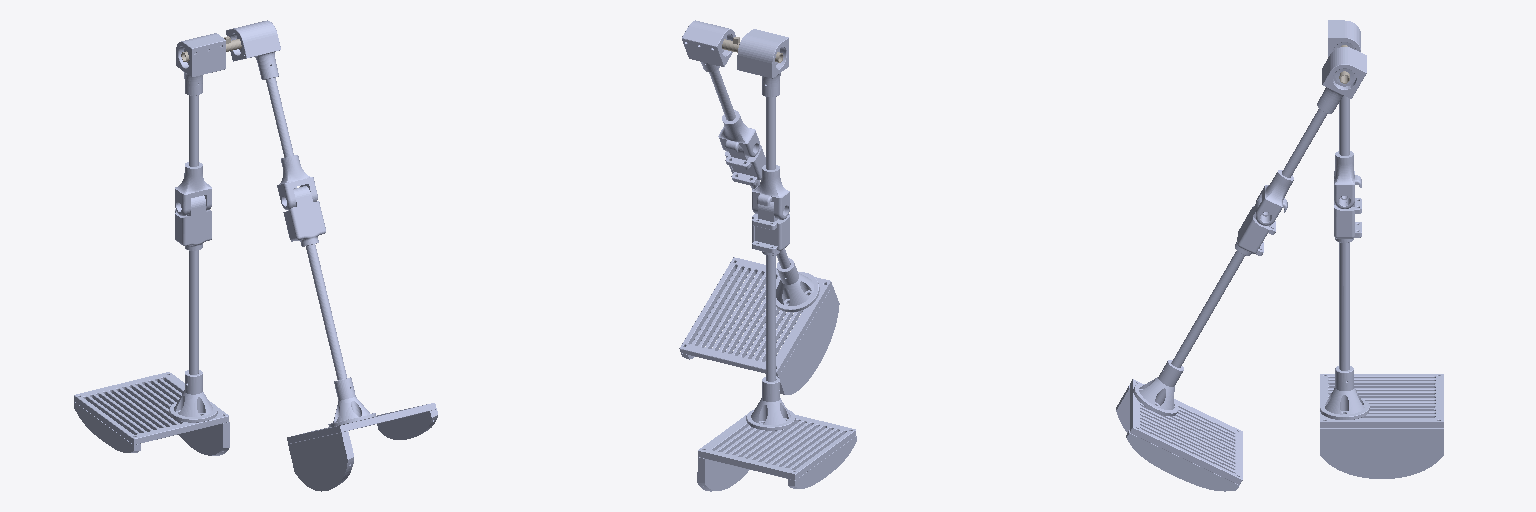
The robot description file, URDF, robot "walker_design_4":
<?xml version="1.0" encoding="utf-8"?>
<!-- This URDF was automatically created by SolidWorks to URDF Exporter! Originally created by [author] ([email redacted]) 
     Commit Version: 1.6.0-4-g7f85cfe  Build Version: 1.6.7995.38578
     For more information, please see http://wiki.ros.org/sw_urdf_exporter -->
<robot
  name="walker_design_4">
  <link
    name="hip_link">
    <inertial>
      <origin
        xyz="-1.0408E-17 0 0.00036588"
        rpy="0 0 0" />
      <mass
        value="0.023249" />
      <inertia
        ixx="5.1362E-07"
        ixy="-2.9466E-22"
        ixz="-7.0616E-20"
        iyy="1.8805E-05"
        iyz="2.0132E-23"
        izz="1.8752E-05" />
    </inertial>
    <visual>
      <origin
        xyz="0 0 0"
        rpy="0 0 0" />
      <geometry>
        <mesh
          filename="package://walker_design_4/meshes/hip_link.STL" />
      </geometry>
      <material
        name="">
        <color
          rgba="0.77647 0.75686 0.73725 1" />
      </material>
    </visual>
    <collision>
      <origin
        xyz="0 0 0"
        rpy="0 0 0" />
      <geometry>
        <mesh
          filename="package://walker_design_4/meshes/hip_link.STL" />
      </geometry>
    </collision>
  </link>
  <link
    name="left_leg_link">
    <inertial>
      <origin
        xyz="0.0048272 0.018573 -0.28802"
        rpy="0 0 0" />
      <mass
        value="0.22213" />
      <inertia
        ixx="0.00019433"
        ixy="3.7372E-08"
        ixz="-8.9774E-07"
        iyy="0.00012201"
        iyz="5.2564E-07"
        izz="0.00021567" />
    </inertial>
    <visual>
      <origin
        xyz="0 0 0"
        rpy="0 0 0" />
      <geometry>
        <mesh
          filename="package://walker_design_4/meshes/left_leg_link.STL" />
      </geometry>
      <material
        name="">
        <color
          rgba="0.79216 0.81961 0.93333 1" />
      </material>
    </visual>
    <collision>
      <origin
        xyz="0 0 0"
        rpy="0 0 0" />
      <geometry>
        <mesh
          filename="package://walker_design_4/meshes/left_leg_link.STL" />
      </geometry>
    </collision>
  </link>
  <joint
    name="left_hip_joint"
    type="revolute">
    <origin
      xyz="-0.05 0 4.0123E-05"
      rpy="0 0 0" />
    <parent
      link="hip_link" />
    <child
      link="left_leg_link" />
    <axis
      xyz="-1 0 0" />
    <limit
      lower="0"
      upper="0"
      effort="0"
      velocity="0" />
  </joint>
  <link
    name="right_leg_link">
    <inertial>
      <origin
        xyz="-0.0048194 0.018798 -0.28802"
        rpy="0 0 0" />
      <mass
        value="0.22213" />
      <inertia
        ixx="0.00019433"
        ixy="3.6752E-08"
        ixz="8.9321E-07"
        iyy="0.00012201"
        iyz="-3.1543E-07"
        izz="0.00021567" />
    </inertial>
    <visual>
      <origin
        xyz="0 0 0"
        rpy="0 0 0" />
      <geometry>
        <mesh
          filename="package://walker_design_4/meshes/right_leg_link.STL" />
      </geometry>
      <material
        name="">
        <color
          rgba="0.79216 0.81961 0.93333 1" />
      </material>
    </visual>
    <collision>
      <origin
        xyz="0 0 0"
        rpy="0 0 0" />
      <geometry>
        <mesh
          filename="package://walker_design_4/meshes/right_leg_link.STL" />
      </geometry>
    </collision>
  </link>
  <joint
    name="right_hip_joint"
    type="revolute">
    <origin
      xyz="0.05 0 4.0123E-05"
      rpy="-0.48379 0 0" />
    <parent
      link="hip_link" />
    <child
      link="right_leg_link" />
    <axis
      xyz="-1 0 0" />
    <limit
      lower="0"
      upper="0"
      effort="0"
      velocity="0" />
  </joint>
</robot>

--- What the picture shows (computed from the rendered views, not written in the file) ---
Views: 3 orthographic renders of the robot side by side, from view 1: azimuth 30°, elevation 25°; view 2: azimuth 150°, elevation 25°; view 3: azimuth 270°, elevation 25°.
Model walker_design_4 with 3 links and 2 joints (2 revolute), rooted at hip_link, posed all joints at 0.
Visible links, largest first — view 1: left_leg_link, right_leg_link; view 2: right_leg_link, left_leg_link; view 3: left_leg_link, right_leg_link.
Boxes of the visible links, x1=… form: left_leg_link: x1=74, y1=33, x2=229, y2=455; right_leg_link: x1=226, y1=20, x2=437, y2=491; right_leg_link: x1=679, y1=20, x2=839, y2=394; left_leg_link: x1=697, y1=29, x2=856, y2=491; left_leg_link: x1=1320, y1=20, x2=1443, y2=478; right_leg_link: x1=1116, y1=47, x2=1366, y2=491.
Bounding box of the posed robot: 0.2427 × 0.3164 × 0.4695 m (x, y, z).
Meshes: 3 distinct files referenced, 3 mesh visuals loaded (3 binary STL).